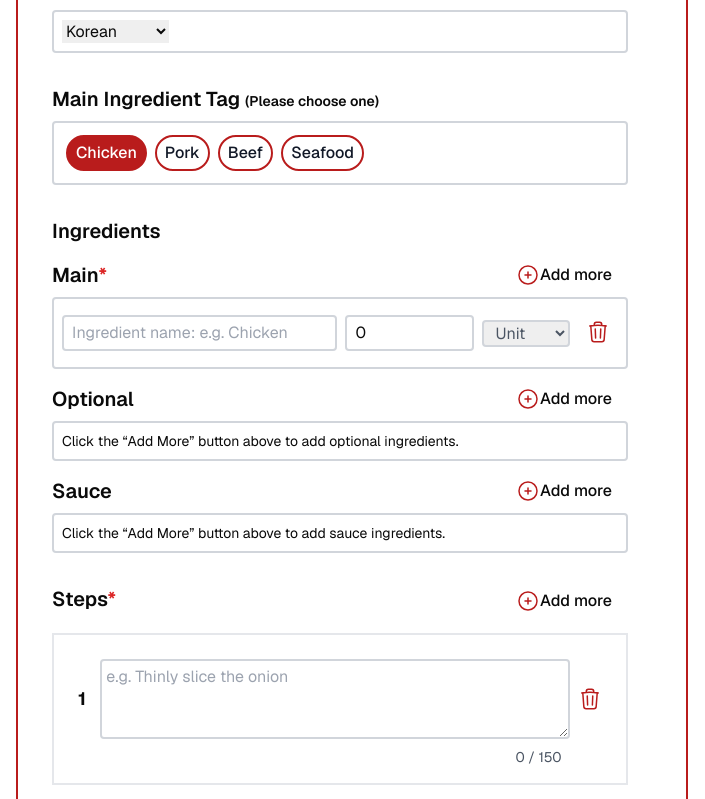
it: RecipeForm › Should display guide message for addition and remove "optional ingredients" inputs when the "Remove" button is clicked
(page scrolled)
Expected: the text "Click the “Add More” button above to add optional ingredients." is shown, [62, 432, 458, 450]
Click the button with aria-label "add more optional ingredient input button".
click(564, 399)  # box [508, 385, 620, 413]
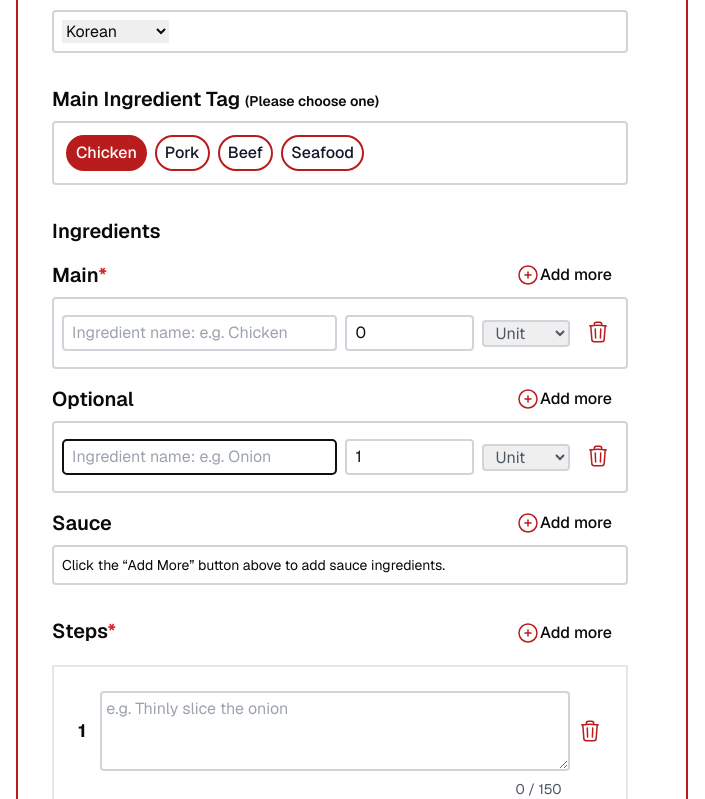
Click the button named "remove optional ingredients input button".
click(598, 456)  # box [578, 440, 618, 472]
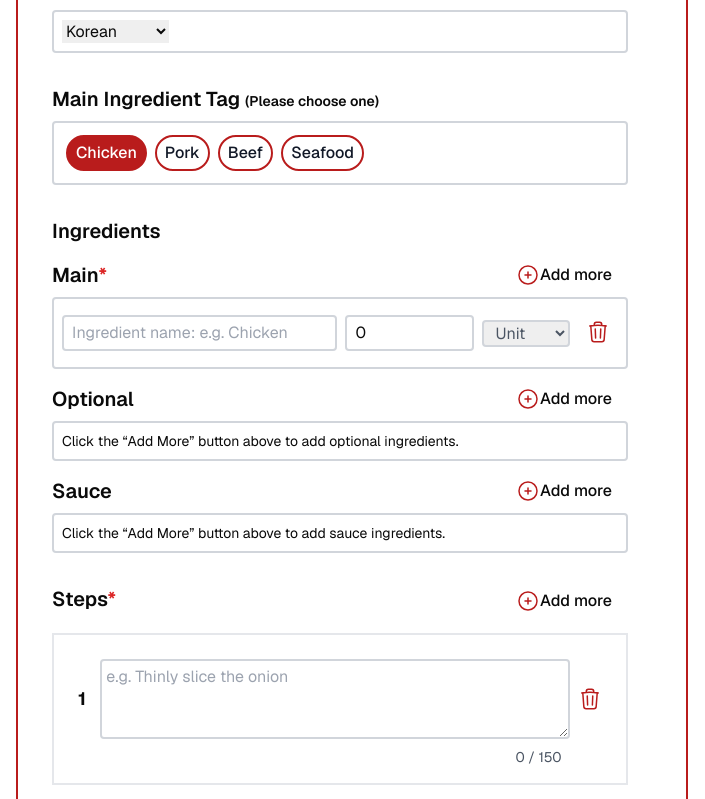
Expected: the text "Click the “Add More” button above to add optional ingredients." is shown, [62, 432, 458, 450]
